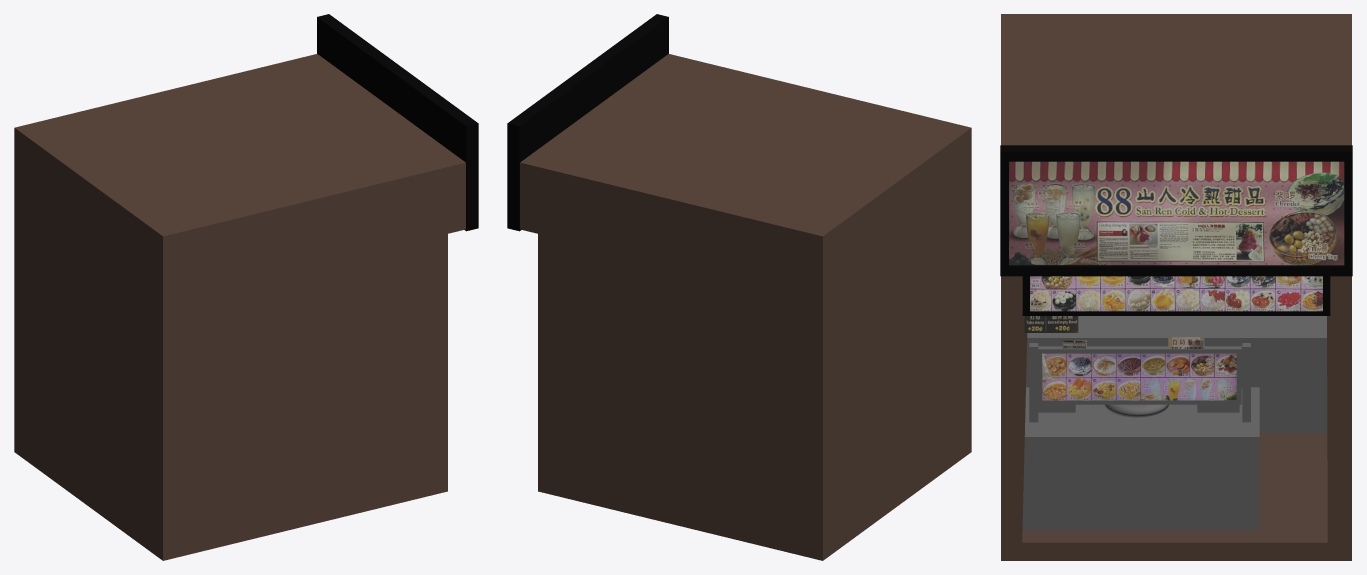
Rendered from 88 SanRen Cold_New.fbx.
The picture shows the model from 3 angles, left to right: view 1: azimuth 30°, elevation 25°; view 2: azimuth 150°, elevation 25°; view 3: azimuth 270°, elevation 25°; orthographic projection. The views are drawn at different scales.
Parts seen in each view (by area): view 1: MainStructure, TitleBackGround; view 2: MainStructure, TitleBackGround; view 3: MainStructure, Title.001, 立方体.001, 立方体, TitleBackGround, Title.002, Title.003, TitleBackGround.002, TitleBackGround.001, Title.005, 立方体.003, 柱体 (+2 smaller).
Boxes of the visible parts, x1,y1,x2,y2 form: MainStructure: [14, 54, 465, 560]; TitleBackGround: [317, 14, 478, 231]; MainStructure: [520, 54, 971, 560]; TitleBackGround: [507, 14, 668, 231]; MainStructure: [1001, 14, 1351, 560]; Title.001: [1009, 161, 1344, 265]; 立方体.001: [1022, 387, 1259, 530]; 立方体: [1026, 316, 1327, 433]; TitleBackGround: [1000, 145, 1352, 276]; Title.002: [1030, 276, 1322, 311]; Title.003: [1042, 353, 1236, 400]; TitleBackGround.002: [1038, 346, 1241, 404]; TitleBackGround.001: [1022, 276, 1330, 315]; Title.005: [1024, 316, 1078, 332]; 立方体.003: [1029, 343, 1038, 422]; 柱体: [1104, 404, 1168, 417].
Bounding box in the file's own units: 4.93 × 5.42 × 4.05.
